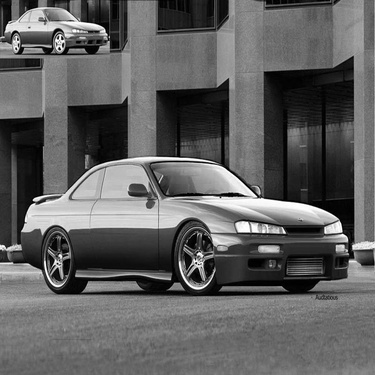car: (9, 151, 359, 300), (1, 2, 113, 62)
